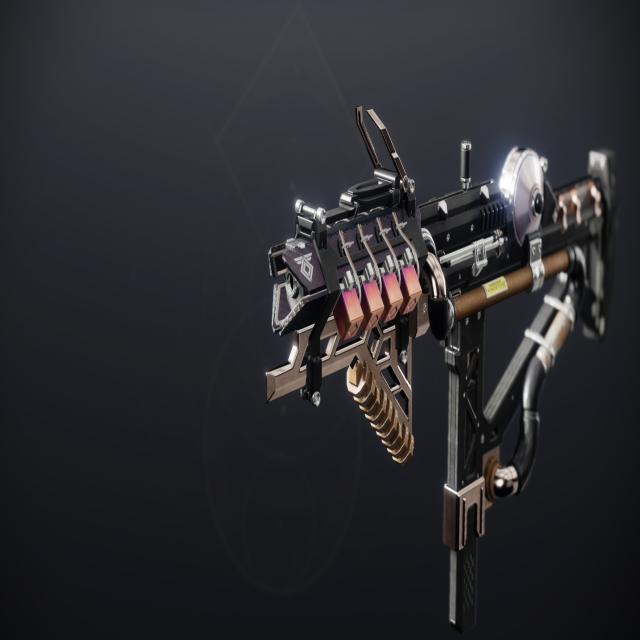Weapon: (266, 106, 618, 631)
